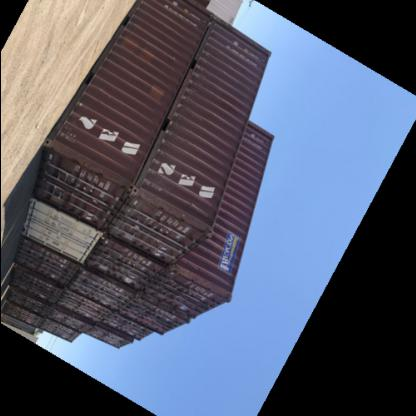Damage: (66, 153, 104, 177)
